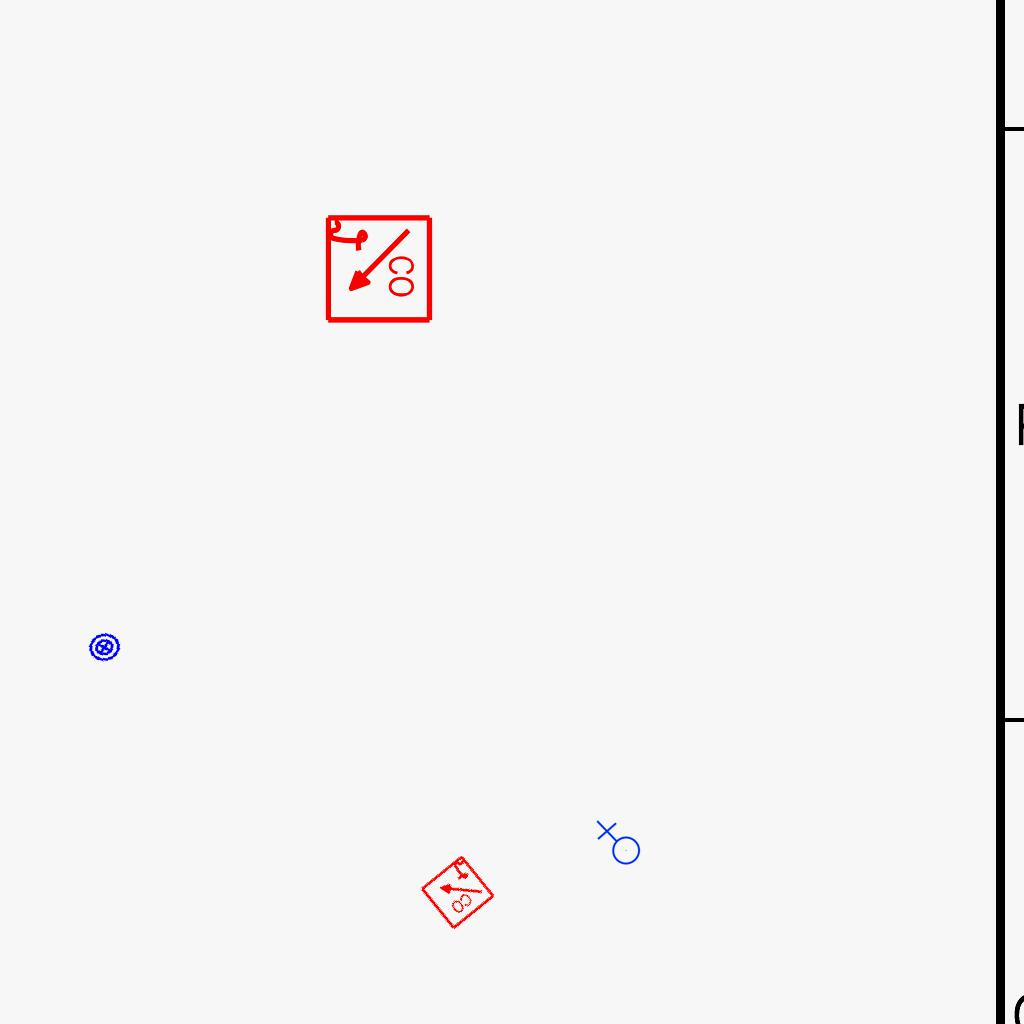Elektroanschluss_allgemein_230V_Geraeteanschlussdose_230V: (594, 820, 641, 869)
ROA_Rauchmelder_optisch_mit_Signalgeber_(Sockelsirene): (321, 213, 434, 326), (417, 852, 497, 932)
Taster_beleuchtet: (84, 627, 125, 668)
